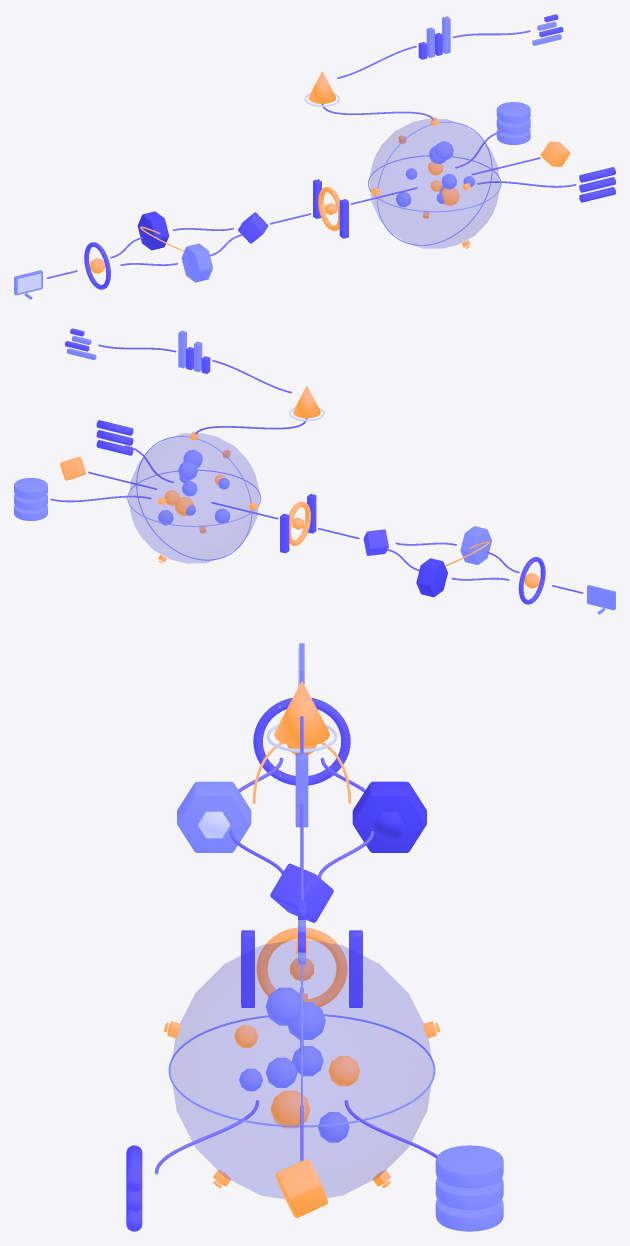
The model's file is platform.glb.
3 renders of one model, top to bottom at view 1: azimuth 30°, elevation 25°; view 2: azimuth 150°, elevation 25°; view 3: azimuth 270°, elevation 25°, orthographic. The views are drawn at different scales.
Parts seen in each view (by area): view 1: mesh_istio_shell, mesh_haproxy_a, mesh_haproxy_b, mesh_postgresql_disc2, mesh_nginx, mesh_slb_ring, mesh_redis, mesh_prometheus, mesh_istio_ring2, mesh_kong_ring, mesh_istio_ring; view 2: mesh_istio_shell, mesh_haproxy_b, mesh_haproxy_a, mesh_postgresql_disc2, mesh_client, mesh_nginx, mesh_slb_ring, mesh_istio_ring2, mesh_prometheus, mesh_kong_ring, mesh_istio_ring, mesh_redis; view 3: mesh_istio_shell, mesh_haproxy_a, mesh_haproxy_b, mesh_postgresql_disc2, mesh_slb_ring, mesh_kong_ring, mesh_nginx, mesh_prometheus, mesh_redis, mesh_postgresql_disc0, mesh_postgresql_disc1, mesh_istio_ring (+8 smaller).
Boxes of the visible parts, box(x1,y1,x2,y2) form: mesh_istio_shell: box(369, 119, 499, 248); mesh_haproxy_a: box(181, 243, 212, 282); mesh_haproxy_b: box(137, 211, 169, 250); mesh_postgresql_disc2: box(496, 102, 530, 123); mesh_nginx: box(238, 212, 268, 243); mesh_slb_ring: box(84, 242, 110, 289); mesh_redis: box(540, 141, 570, 166); mesh_prometheus: box(308, 71, 335, 103); mesh_istio_ring2: box(377, 121, 492, 245); mesh_kong_ring: box(318, 186, 340, 231); mesh_istio_ring: box(368, 155, 501, 212); mesh_istio_shell: box(129, 433, 259, 563); mesh_haproxy_b: box(416, 558, 447, 597); mesh_haproxy_a: box(460, 526, 491, 564); mesh_postgresql_disc2: box(14, 478, 47, 499); mesh_client: box(587, 585, 615, 610); mesh_nginx: box(363, 529, 388, 555); mesh_slb_ring: box(518, 557, 545, 604); mesh_istio_ring2: box(136, 436, 252, 560); mesh_prometheus: box(293, 385, 320, 418); mesh_kong_ring: box(288, 501, 310, 545); mesh_istio_ring: box(127, 469, 261, 526); mesh_redis: box(60, 457, 85, 480); mesh_istio_shell: box(170, 940, 433, 1198); mesh_haproxy_a: box(177, 781, 251, 852); mesh_haproxy_b: box(352, 781, 426, 852); mesh_postgresql_disc2: box(435, 1145, 503, 1188); mesh_slb_ring: box(253, 698, 350, 785); mesh_kong_ring: box(256, 927, 347, 1007); mesh_nginx: box(270, 863, 333, 922); mesh_prometheus: box(274, 681, 329, 746); mesh_redis: box(276, 1159, 328, 1217); mesh_postgresql_disc0: box(435, 1199, 503, 1231); mesh_postgresql_disc1: box(435, 1178, 503, 1209); mesh_istio_ring: box(168, 1014, 435, 1127).
Bounding box in the file's own units: 32.25 × 12.35 × 9.45.
